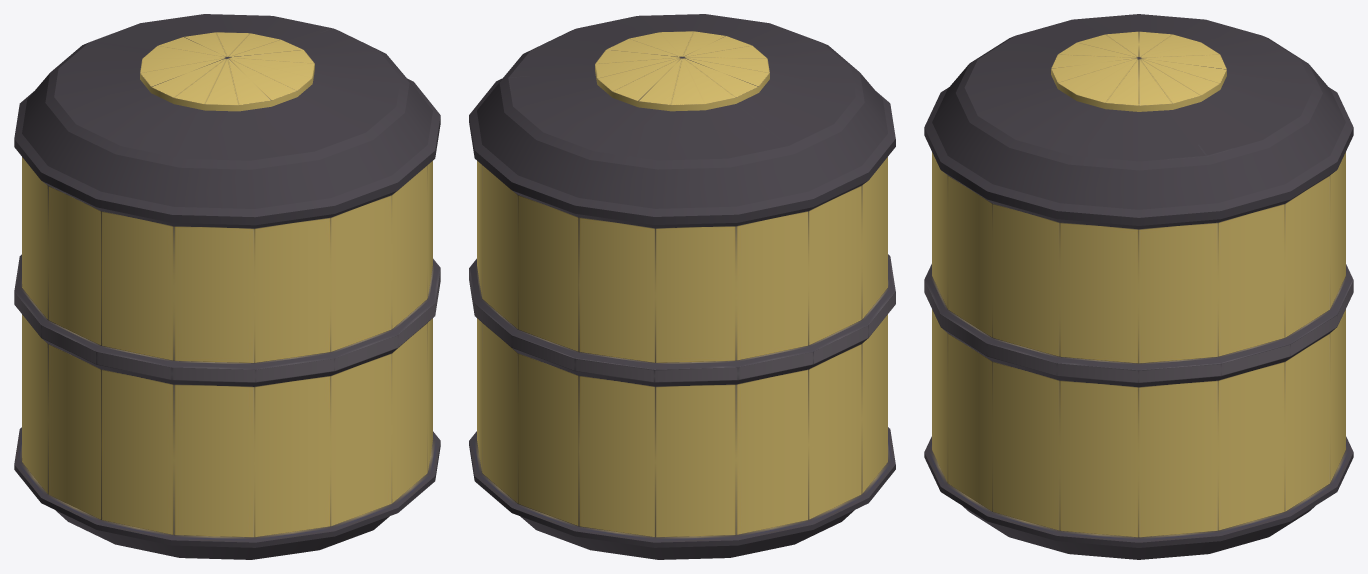
The model's file is Barrel.fbx.
The picture shows the model from 3 angles, left to right: view 1: azimuth 30°, elevation 25°; view 2: azimuth 150°, elevation 25°; view 3: azimuth 270°, elevation 25°; orthographic projection.
Parts seen in each view (by area): view 1: pCylinder2; view 2: pCylinder2; view 3: pCylinder2.
Part boxes in pixels (left/top/right/bottom): pCylinder2: left=14, top=14, right=440, bottom=559; pCylinder2: left=469, top=14, right=895, bottom=559; pCylinder2: left=924, top=14, right=1353, bottom=559.
Size of the model in its own units: 12.49 by 13.62 by 12.49.
1 material, 1 textured.
